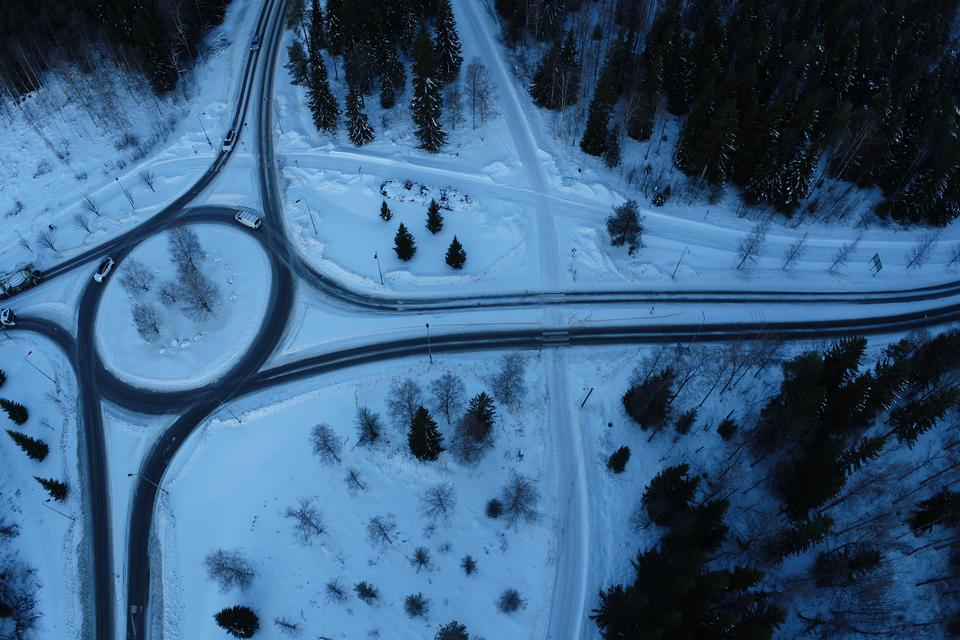intersection: (186, 115, 294, 178), (518, 271, 585, 368)
roundabout: (45, 189, 309, 437)
